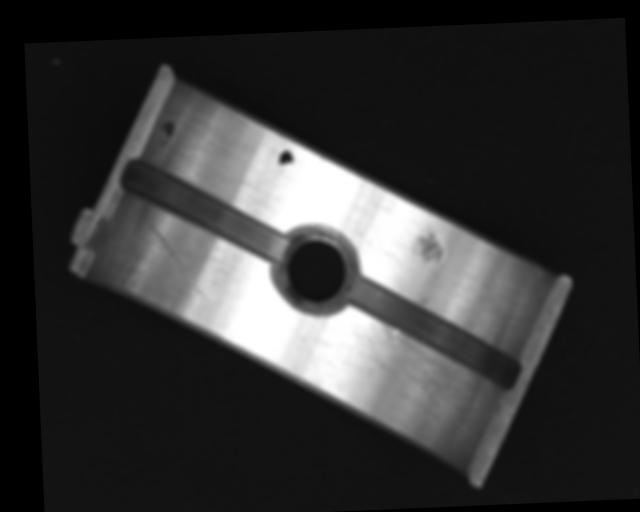blot: (159, 118, 174, 145), (278, 148, 294, 171)
bruise: (415, 223, 444, 264)
gap: (349, 268, 521, 395), (120, 151, 288, 267)
hole: (273, 223, 358, 314)
nick: (146, 215, 206, 303)
scratch: (355, 304, 480, 423)
